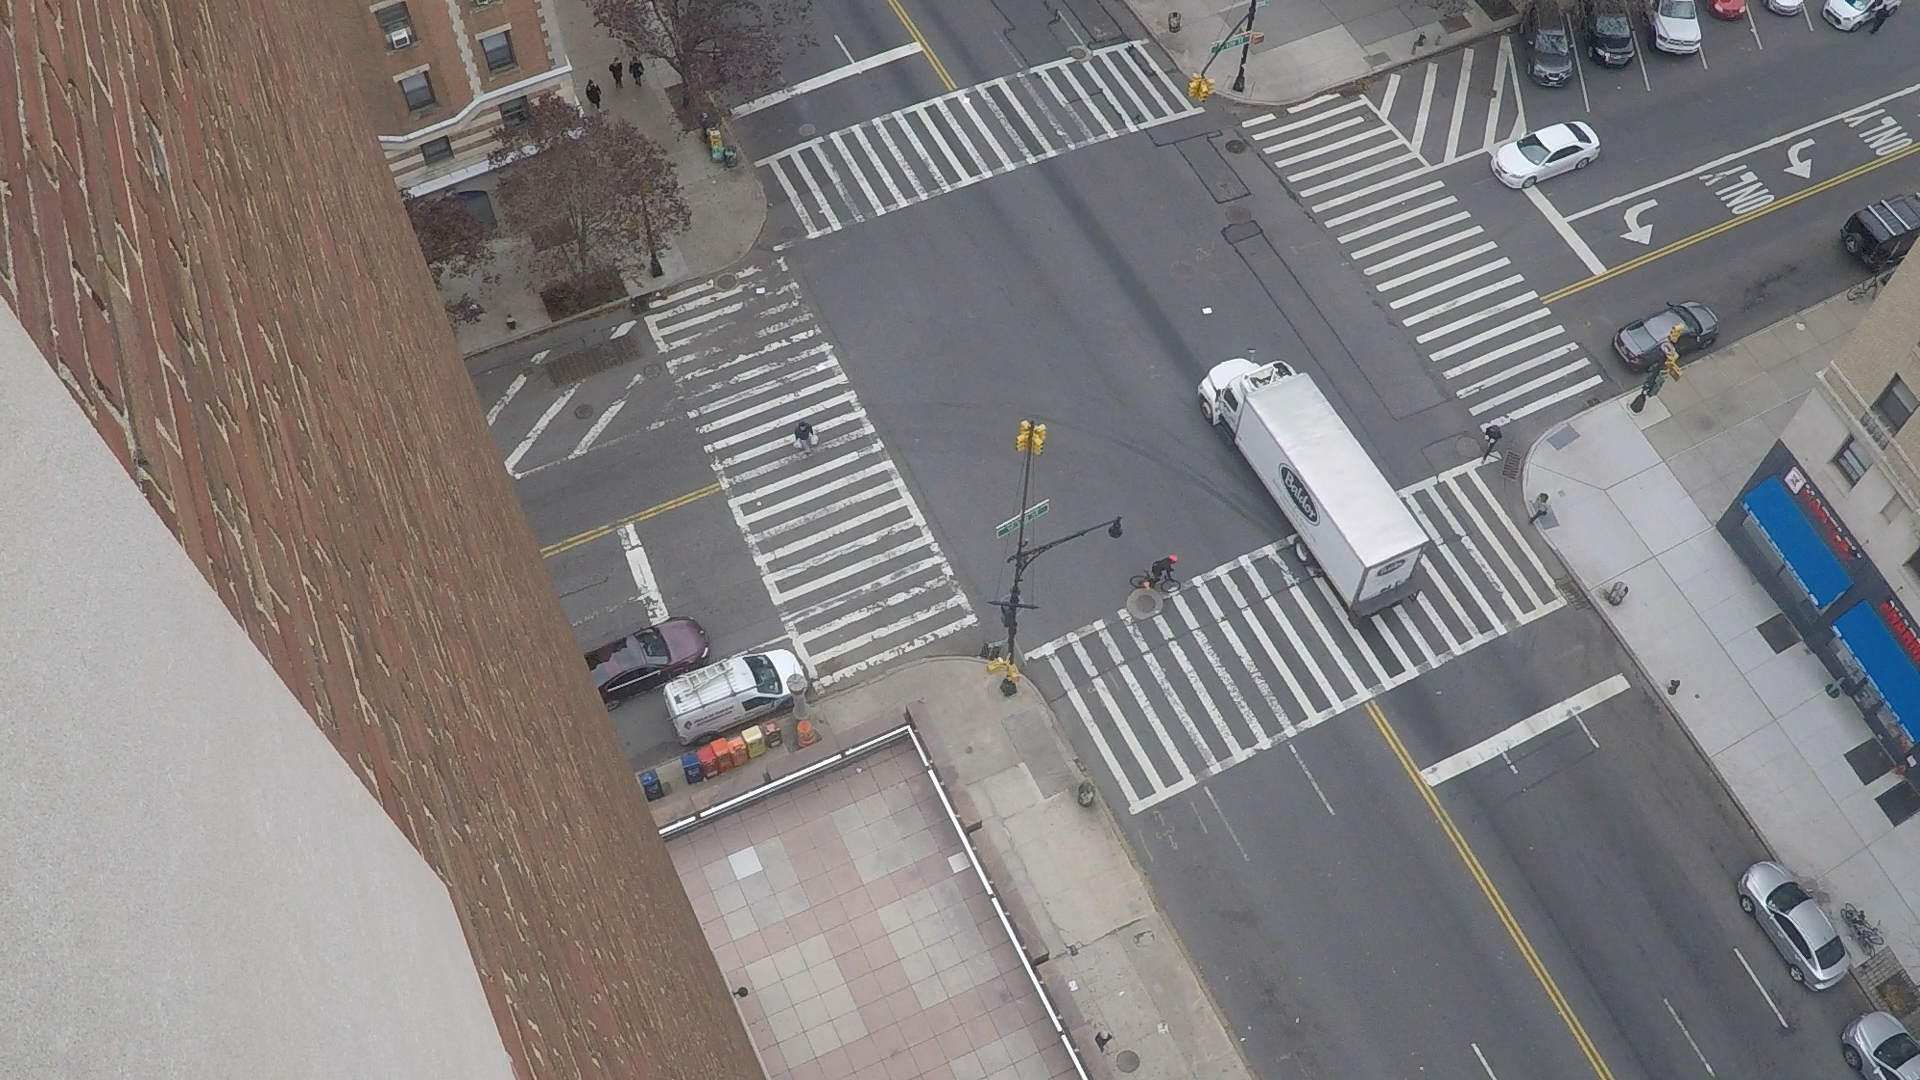Car: (1642, 1, 1652, 38), (1916, 191, 1919, 208), (1526, 47, 1527, 65)
Truck: (1197, 396, 1201, 413)
